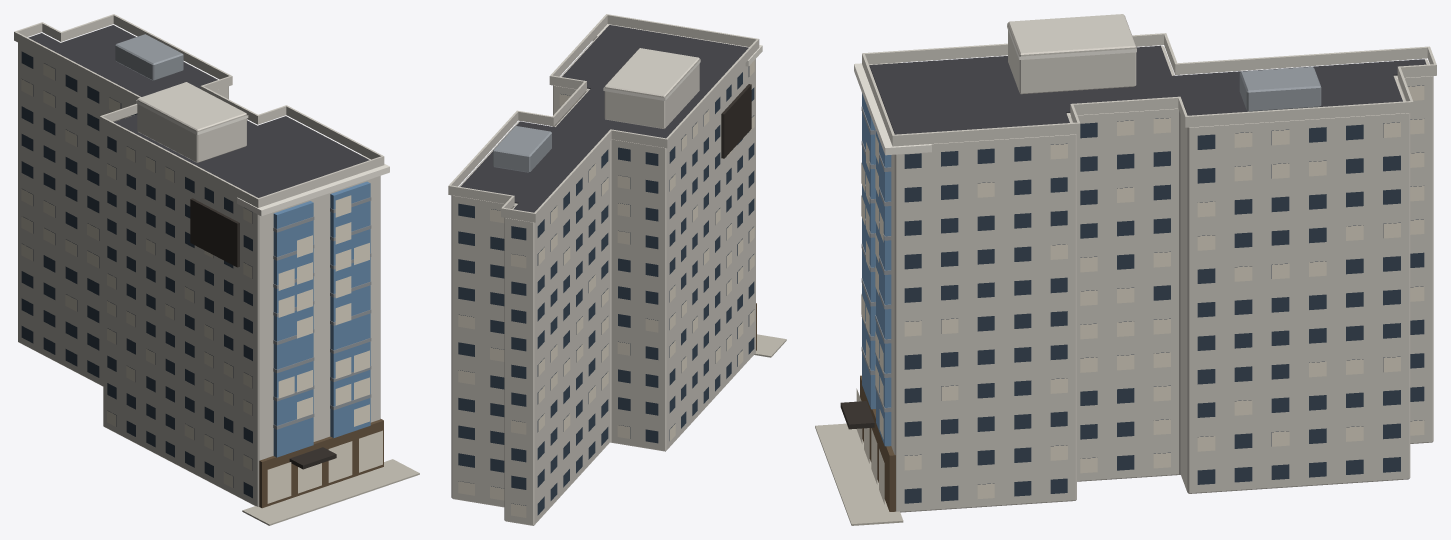
The model's file is 466-bush-street.glb.
The picture shows the model from 3 angles, left to right: view 1: azimuth 30°, elevation 25°; view 2: azimuth 150°, elevation 25°; view 3: azimuth 270°, elevation 25°; orthographic projection. The views are drawn at different scales.
Parts seen in each view (by area): view 1: 466-bush-street_body, 466-bush-street_night_glow; view 2: 466-bush-street_body, 466-bush-street_night_glow; view 3: 466-bush-street_body, 466-bush-street_night_glow.
Part boxes in pixels (<box>): 466-bush-street_body: <box>14,14,419,525</box>; 466-bush-street_night_glow: <box>21,63,382,503</box>; 466-bush-street_body: <box>448,14,786,525</box>; 466-bush-street_night_glow: <box>458,59,754,517</box>; 466-bush-street_body: <box>815,14,1436,525</box>; 466-bush-street_night_glow: <box>856,16,1424,504</box>.
Size of the model in its own units: 20.56 by 34.55 by 47.43.
